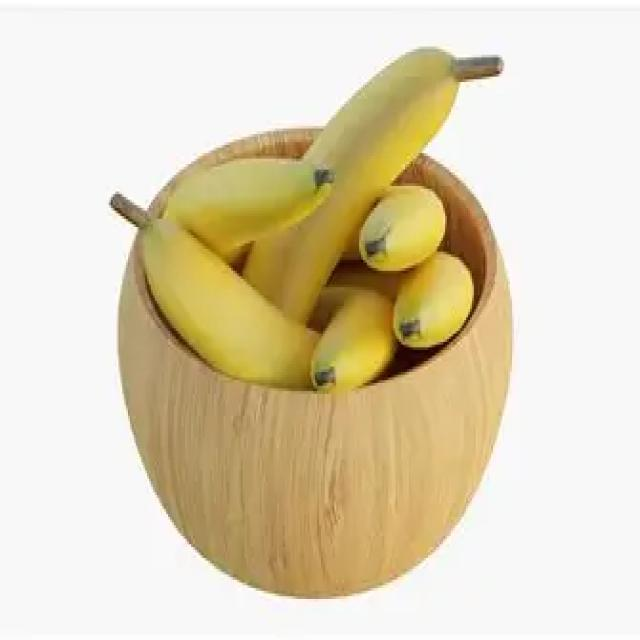BANANA: (110, 42, 503, 392)
